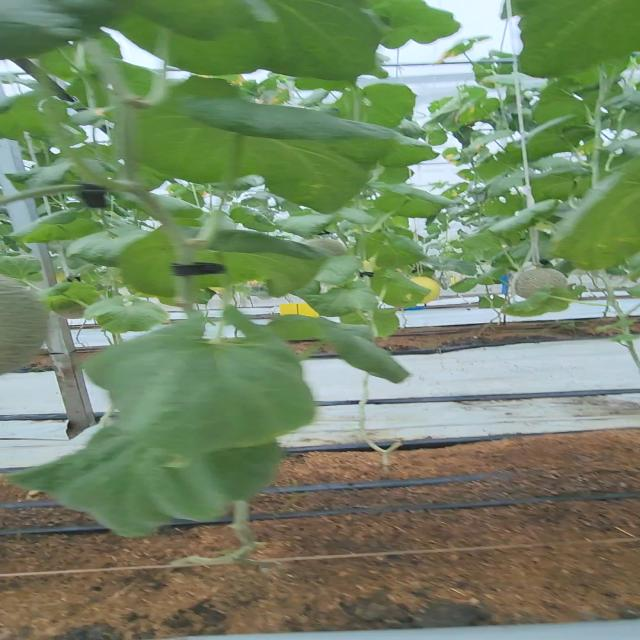Front-melon: (0, 274, 55, 374)
Rear-melon: (514, 268, 567, 292)
